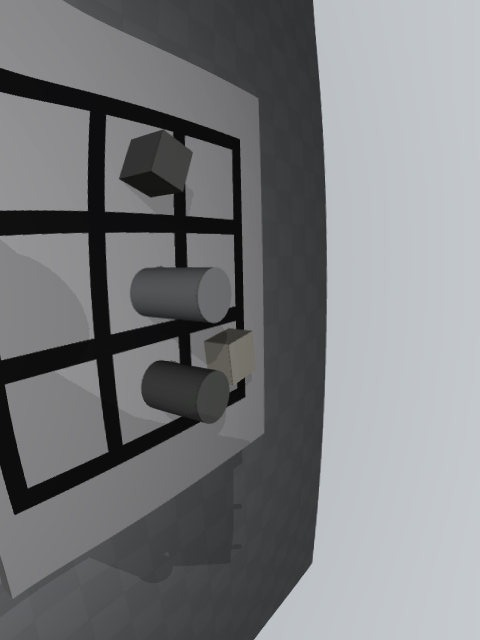can: (130, 267, 231, 323)
cube: (119, 130, 193, 197)
cylinder: (141, 360, 230, 424)
foam: (204, 328, 256, 386)
